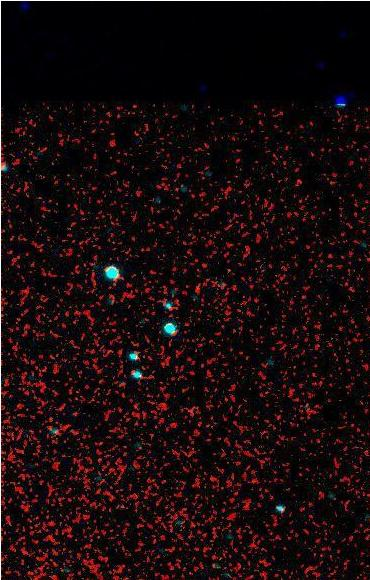star: (182, 274, 212, 304)
